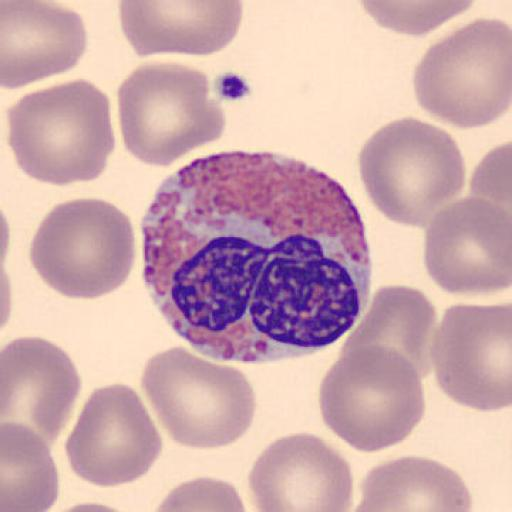RBC: (139, 344, 259, 452), (356, 114, 466, 230), (115, 58, 226, 168), (6, 76, 115, 188), (318, 343, 426, 454), (411, 16, 512, 130), (28, 195, 136, 301), (63, 381, 163, 488), (338, 283, 437, 384), (1, 335, 83, 452), (429, 300, 512, 414), (422, 196, 512, 298), (246, 430, 354, 512), (2, 0, 90, 90), (119, 0, 245, 58), (351, 454, 474, 512), (1, 419, 60, 512), (356, 0, 479, 38), (469, 138, 512, 237), (150, 474, 250, 512), (0, 196, 13, 341), (42, 500, 143, 512), (0, 194, 11, 304), (0, 196, 13, 278), (0, 257, 13, 338)
WBC: (140, 154, 372, 364)
